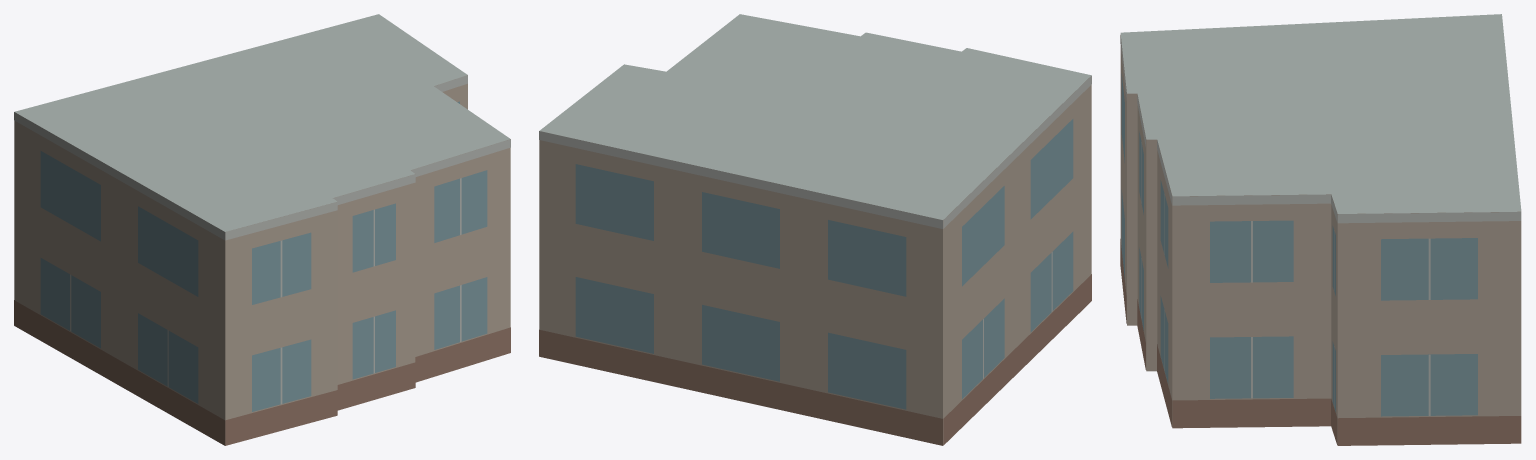
File: survey-upis-32894911.glb
The picture shows the model from 3 angles, left to right: view 1: azimuth 30°, elevation 25°; view 2: azimuth 150°, elevation 25°; view 3: azimuth 270°, elevation 25°; orthographic projection. The views are drawn at different scales.
Visible parts, largest first — view 1: survey-upis-32894911.tmp; view 2: survey-upis-32894911.tmp; view 3: survey-upis-32894911.tmp.
Boxes of the visible parts, x1,y1,x2,y2 form: survey-upis-32894911.tmp: (14, 14, 510, 445); survey-upis-32894911.tmp: (539, 14, 1091, 445); survey-upis-32894911.tmp: (1120, 14, 1521, 445).
Bounding box in the file's own units: 11.3 × 6.1 × 9.57.
